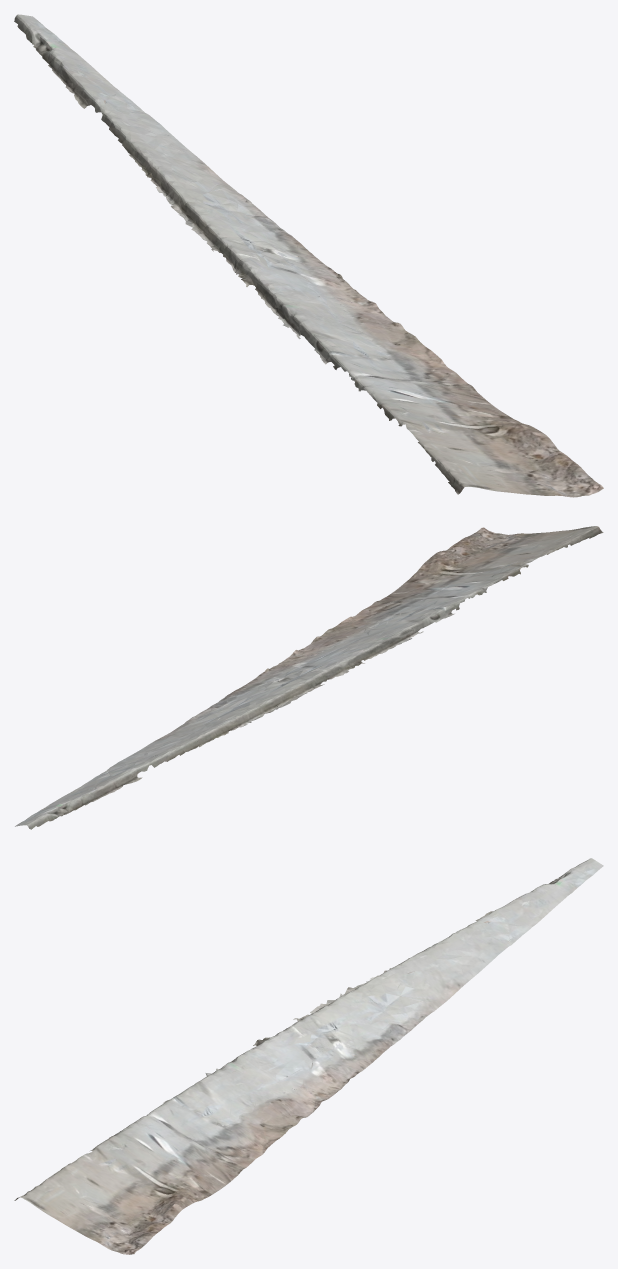
The picture shows the model from 3 angles, top to bottom: view 1: azimuth 30°, elevation 25°; view 2: azimuth 150°, elevation 25°; view 3: azimuth 330°, elevation 25°; orthographic projection. The views are drawn at different scales.
Size of the model in its own units: 1.49 by 0.6168 by 10.11.
Materials: 1 (1 with a texture image).
